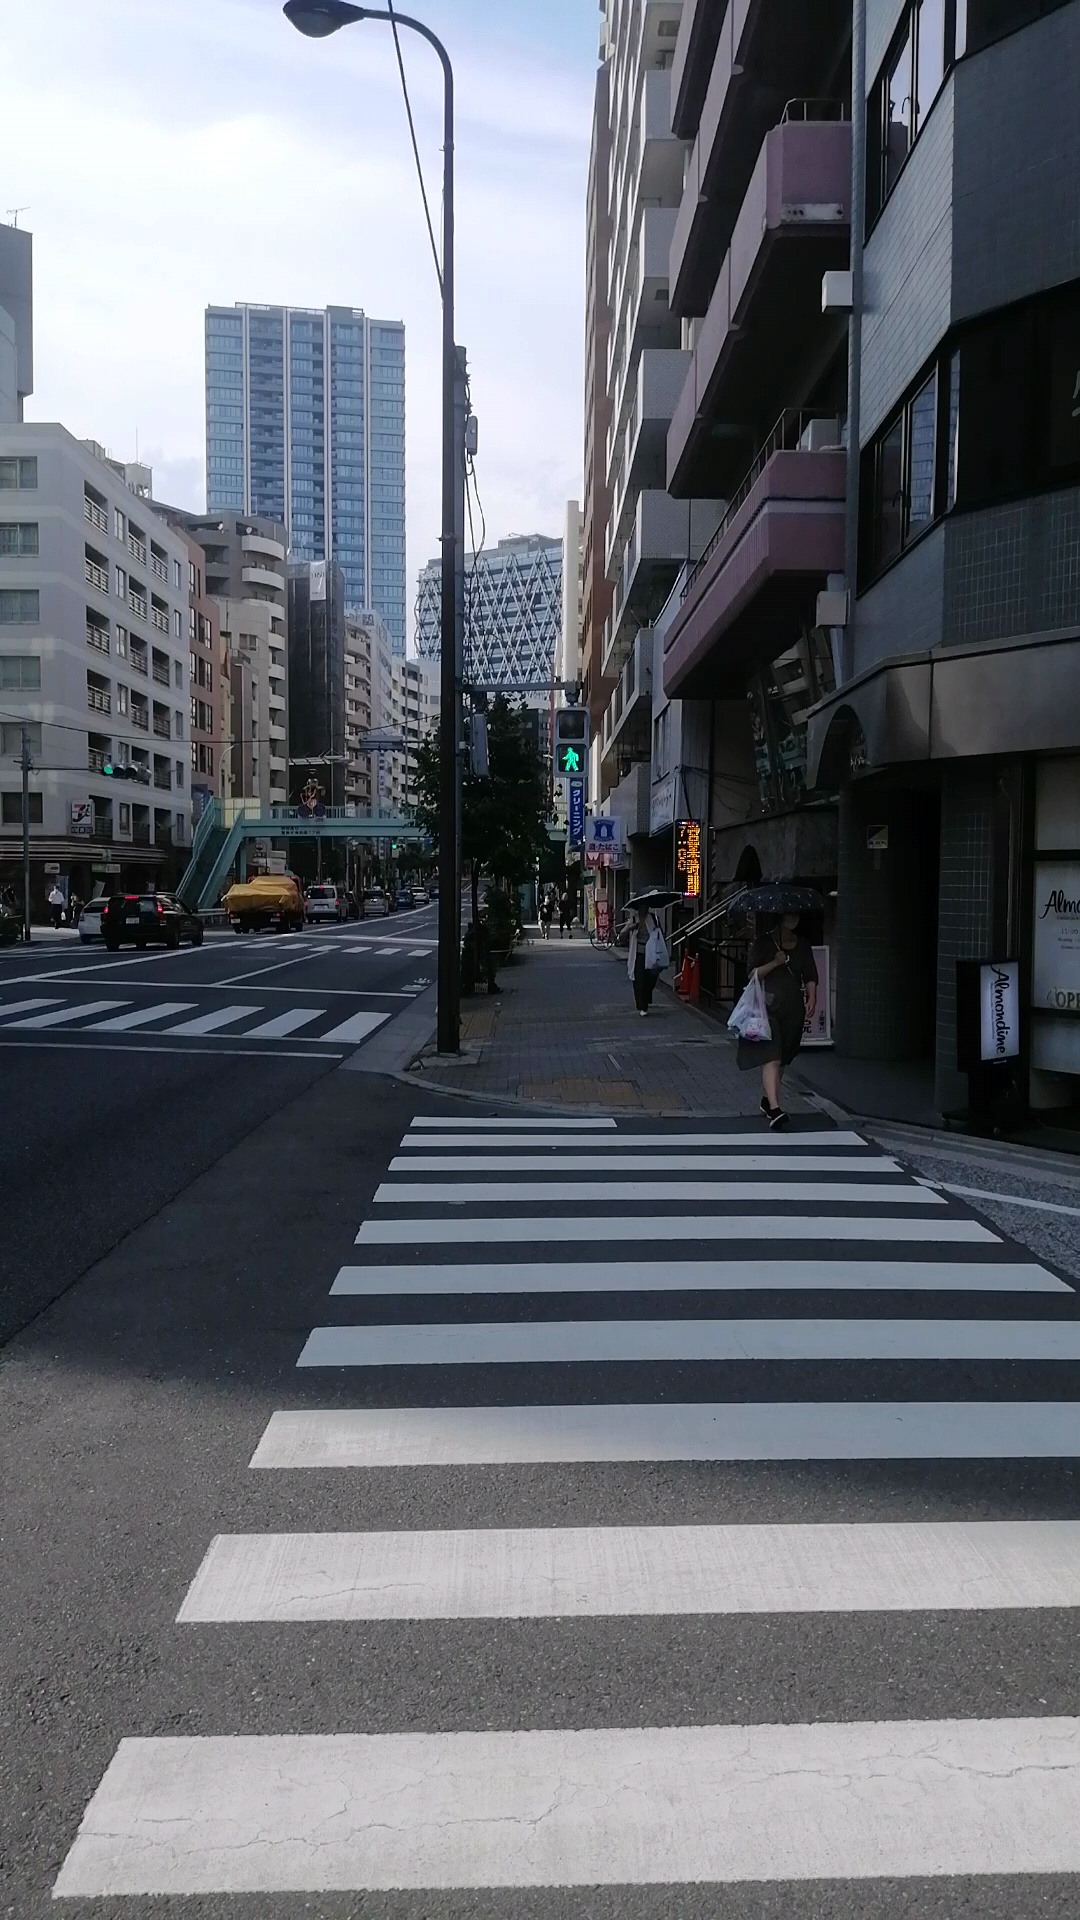green: (553, 708, 588, 777)
